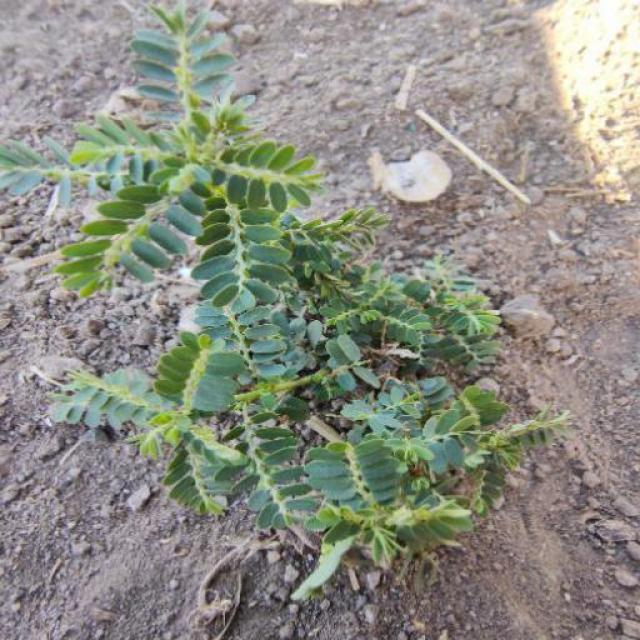weed: (89, 90, 539, 618)
